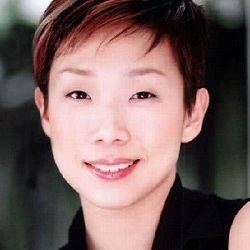unmask: (47, 56, 187, 207)
